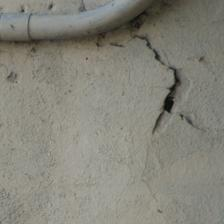Crack: (66, 16, 116, 117)
